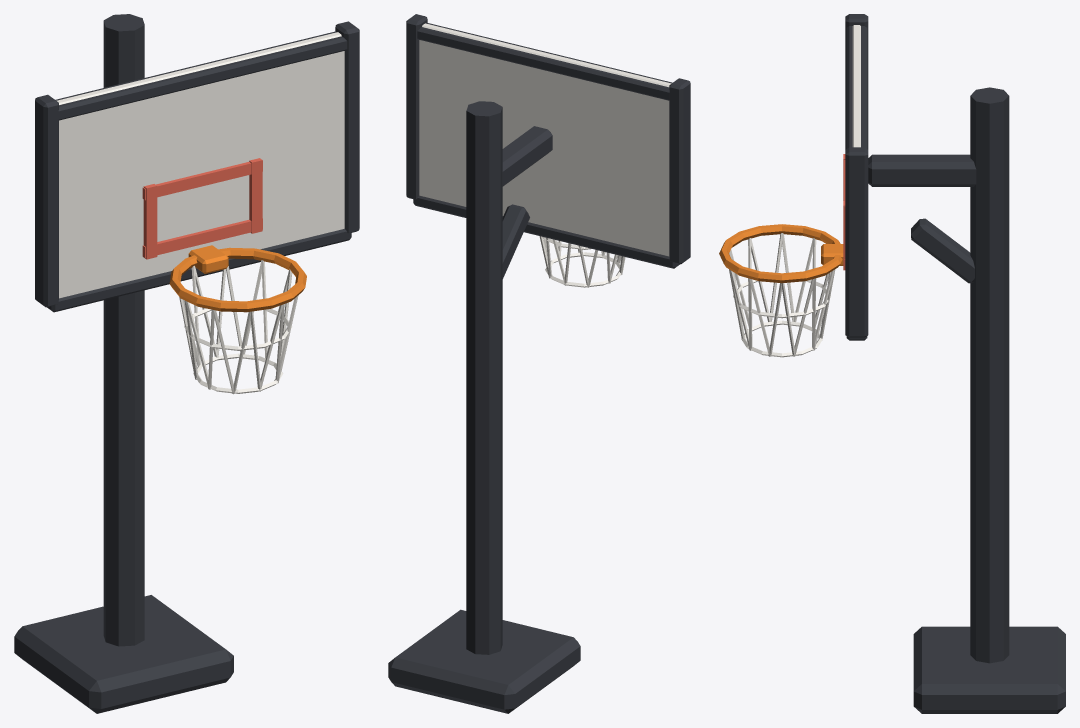
The model's file is basketball_hoop.glb.
3 renders of one model, left to right at view 1: azimuth 30°, elevation 25°; view 2: azimuth 150°, elevation 25°; view 3: azimuth 270°, elevation 25°, orthographic. The views are drawn at different scales.
Parts seen in each view (by area): view 1: basketball_hoop; view 2: basketball_hoop; view 3: basketball_hoop.
Part boxes in pixels (x1,y1,x2,y2): basketball_hoop: (14,14,359,713); basketball_hoop: (388,14,690,713); basketball_hoop: (719,14,1065,713).
Size of the model in its own units: 1.2 by 2.4 by 1.25.
